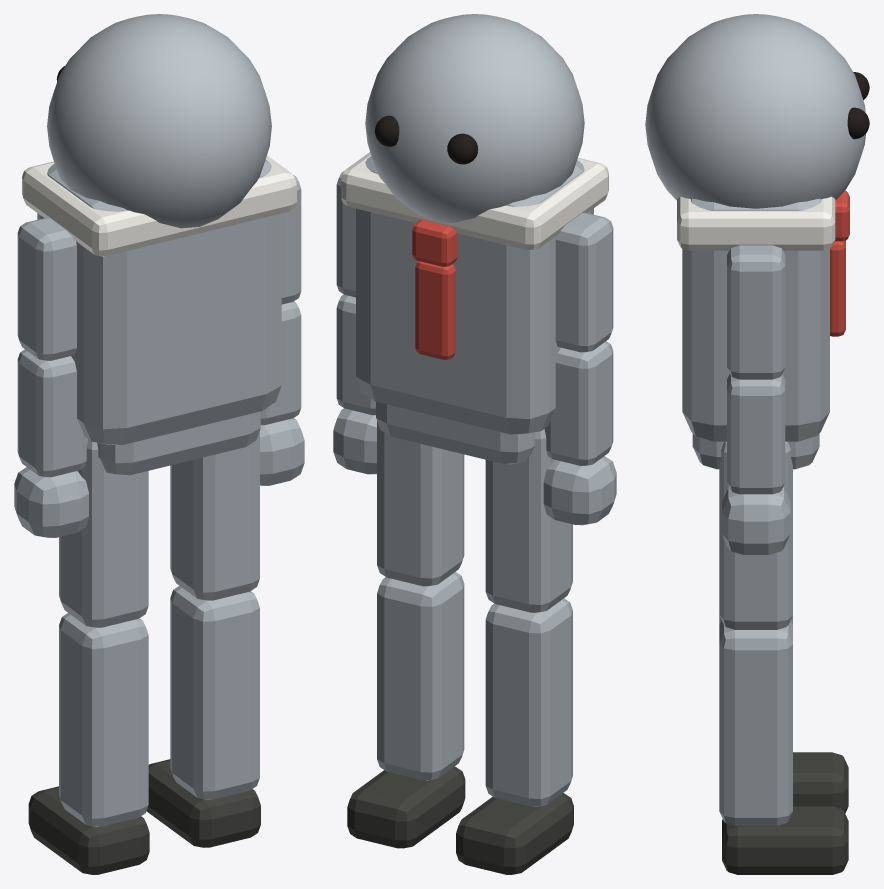
The model's file is character.glb.
3 views of the same model, side by side, from view 1: azimuth 30°, elevation 25°; view 2: azimuth 150°, elevation 25°; view 3: azimuth 270°, elevation 25° (orthographic). The views are drawn at different scales.
Visible parts, largest first — view 1: Torso, Head, Leg_R_Lower, Leg_L_Lower, Leg_R_Upper, Leg_L_Upper, Collar, Arm_L_Upper, Arm_L_Lower, Foot_L, Foot_R, Hips (+4 smaller); view 2: Head, Torso, Leg_R_Lower, Leg_L_Lower, Leg_R_Upper, Leg_L_Upper, Collar, Arm_L_Upper, Arm_L_Lower, Foot_R, Foot_L, Tie (+7 smaller); view 3: Head, Torso, Leg_R_Lower, Arm_R_Upper, Foot_R, Leg_R_Upper, Arm_R_Lower, Collar, Hand_R, Foot_L, Tie, Hips (+1 smaller).
Part boxes in pixels (x1=…): Torso: x1=37, y1=160, x2=281, y2=445; Head: x1=47, y1=14, x2=271, y2=228; Leg_R_Lower: x1=170, y1=586, x2=259, y2=799; Leg_L_Lower: x1=59, y1=613, x2=148, y2=826; Leg_R_Upper: x1=170, y1=431, x2=259, y2=600; Leg_L_Upper: x1=59, y1=439, x2=148, y2=627; Collar: x1=22, y1=155, x2=296, y2=256; Arm_L_Upper: x1=17, y1=217, x2=76, y2=360; Arm_L_Lower: x1=17, y1=349, x2=87, y2=477; Foot_L: x1=28, y1=786, x2=149, y2=874; Foot_R: x1=146, y1=759, x2=260, y2=847; Hips: x1=97, y1=411, x2=260, y2=475; Head: x1=365, y1=14, x2=584, y2=222; Torso: x1=356, y1=156, x2=593, y2=434; Leg_R_Lower: x1=377, y1=572, x2=464, y2=780; Leg_L_Lower: x1=485, y1=598, x2=572, y2=806; Leg_R_Upper: x1=377, y1=421, x2=464, y2=586; Leg_L_Upper: x1=485, y1=429, x2=572, y2=612; Collar: x1=341, y1=152, x2=608, y2=250; Arm_L_Upper: x1=555, y1=212, x2=613, y2=352; Arm_L_Lower: x1=544, y1=341, x2=613, y2=465; Foot_R: x1=347, y1=766, x2=465, y2=848; Foot_L: x1=456, y1=793, x2=573, y2=874; Tie: x1=412, y1=220, x2=457, y2=359; Head: x1=645, y1=14, x2=865, y2=208; Torso: x1=682, y1=198, x2=829, y2=441; Leg_R_Lower: x1=719, y1=620, x2=792, y2=825; Arm_R_Upper: x1=727, y1=245, x2=785, y2=379; Foot_R: x1=722, y1=806, x2=848, y2=874; Leg_R_Upper: x1=719, y1=441, x2=792, y2=629; Arm_R_Lower: x1=727, y1=374, x2=785, y2=494; Collar: x1=677, y1=196, x2=835, y2=250; Hand_R: x1=722, y1=487, x2=790, y2=554; Foot_L: x1=793, y1=752, x2=848, y2=813; Tie: x1=830, y1=190, x2=849, y2=336; Hips: x1=692, y1=433, x2=819, y2=469.
Size of the model in its own units: 0.59 by 1.7 by 0.425.
